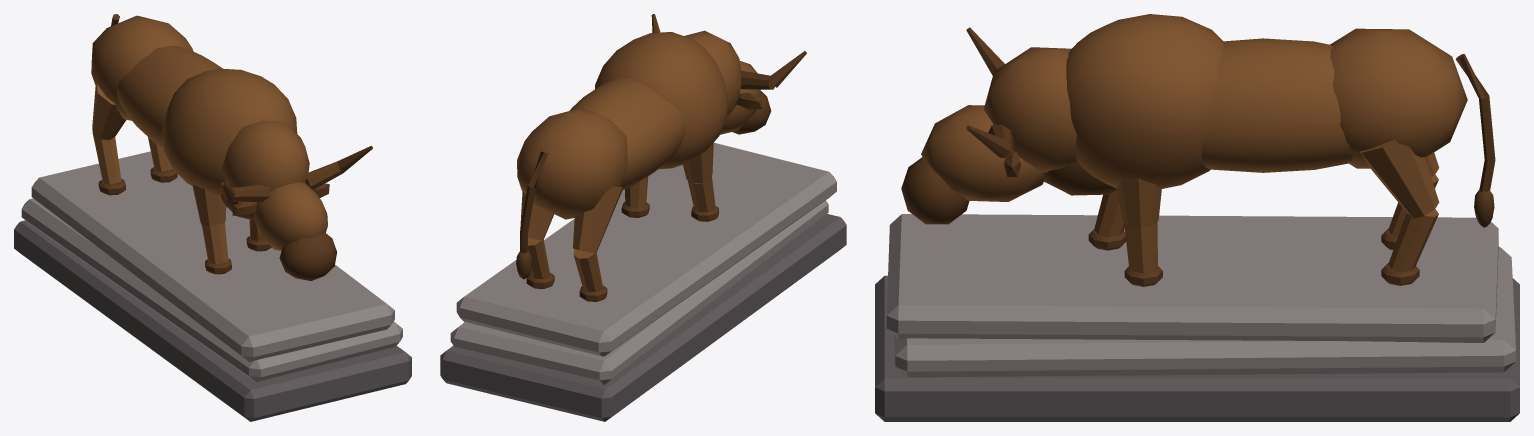
The model's file is bull_statue.glb.
3 views of the same model, side by side, from view 1: azimuth 30°, elevation 25°; view 2: azimuth 150°, elevation 25°; view 3: azimuth 270°, elevation 25° (orthographic). The views are drawn at different scales.
Visible parts, largest first — view 1: bull_statue; view 2: bull_statue; view 3: bull_statue.
Boxes of the visible parts, bbox=[...] form: bull_statue: bbox=[14, 14, 411, 421]; bull_statue: bbox=[440, 14, 846, 421]; bull_statue: bbox=[875, 14, 1519, 421].
Size of the model in its own units: 2.19 by 3.2 by 5.37.
1 material, 1 textured.
